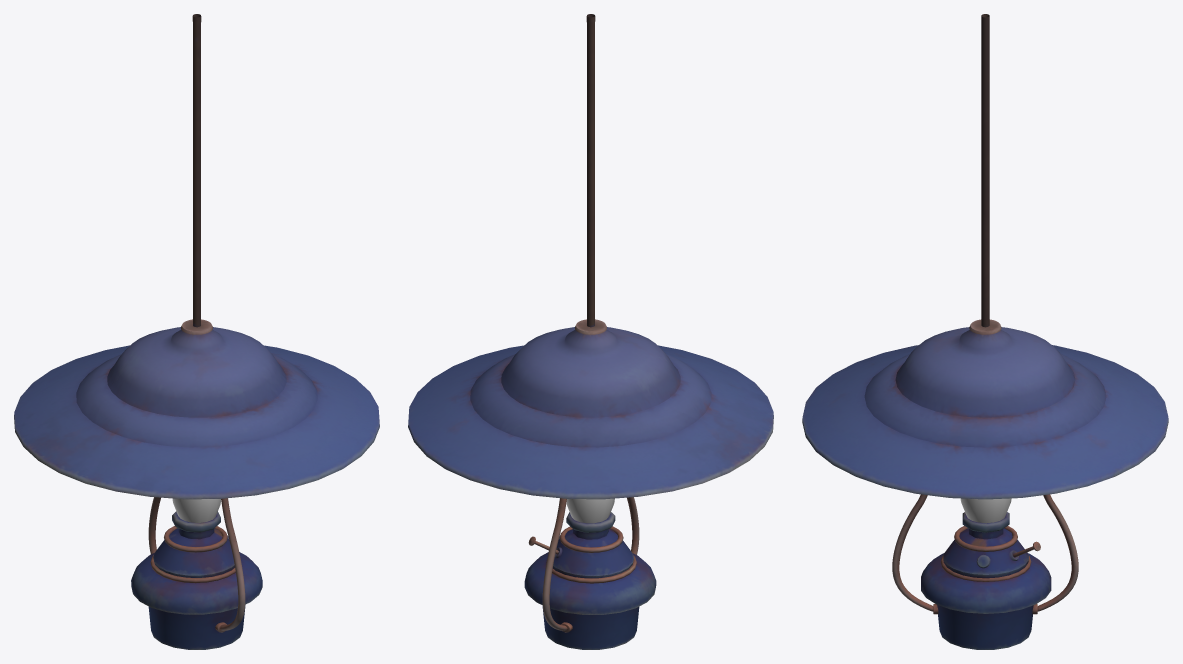
Rendered from SM_KitchenLamp.fbx.
The picture shows the model from 3 angles, left to right: view 1: azimuth 30°, elevation 25°; view 2: azimuth 150°, elevation 25°; view 3: azimuth 270°, elevation 25°; orthographic projection.
Visible parts, largest first — view 1: SM_KitchenLamp_LOD0; view 2: SM_KitchenLamp_LOD0; view 3: SM_KitchenLamp_LOD0.
Boxes of the visible parts, x1=… form: SM_KitchenLamp_LOD0: x1=14, y1=14, x2=379, y2=649; SM_KitchenLamp_LOD0: x1=408, y1=14, x2=773, y2=649; SM_KitchenLamp_LOD0: x1=802, y1=14, x2=1168, y2=649.
Size of the model in its own units: 66.89 by 66.89 by 124.
2 materials, 1 textured.
